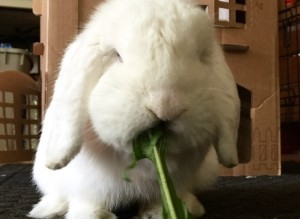bunny: (24, 3, 247, 219)
